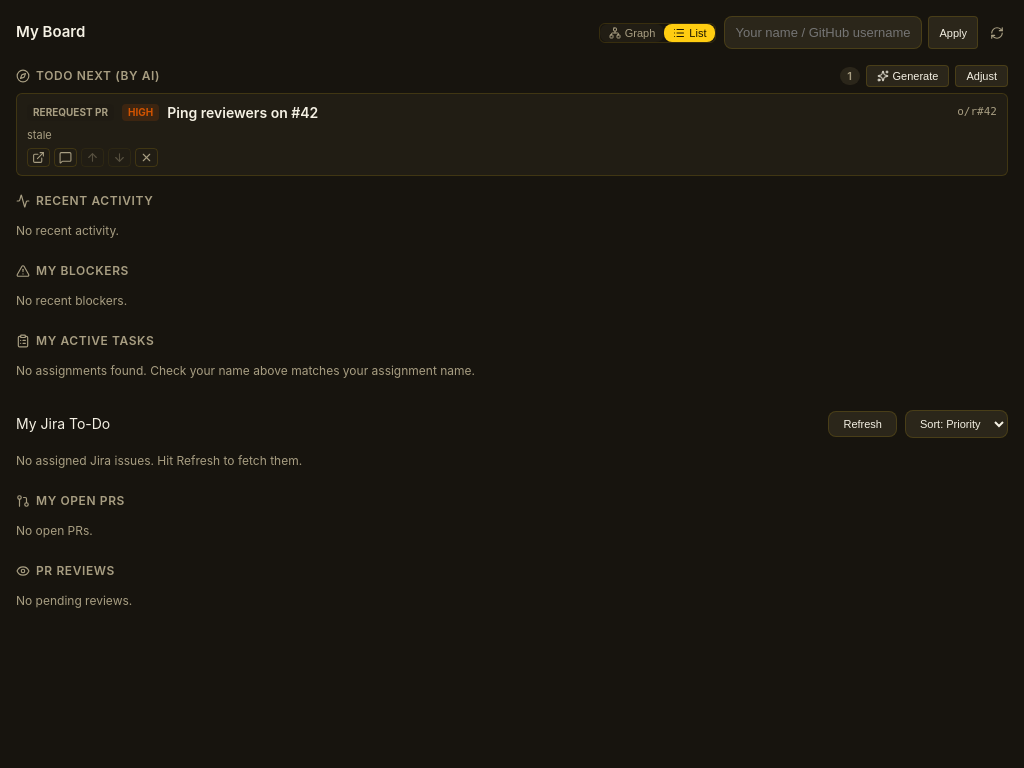
Test case: MyBoardPage — TODO NEXT (BY AI) › opens the draft modal and shows the AI-drafted message
Click the button named "Draft reviewer nudge" at (66, 157), box [54,148,77,166]
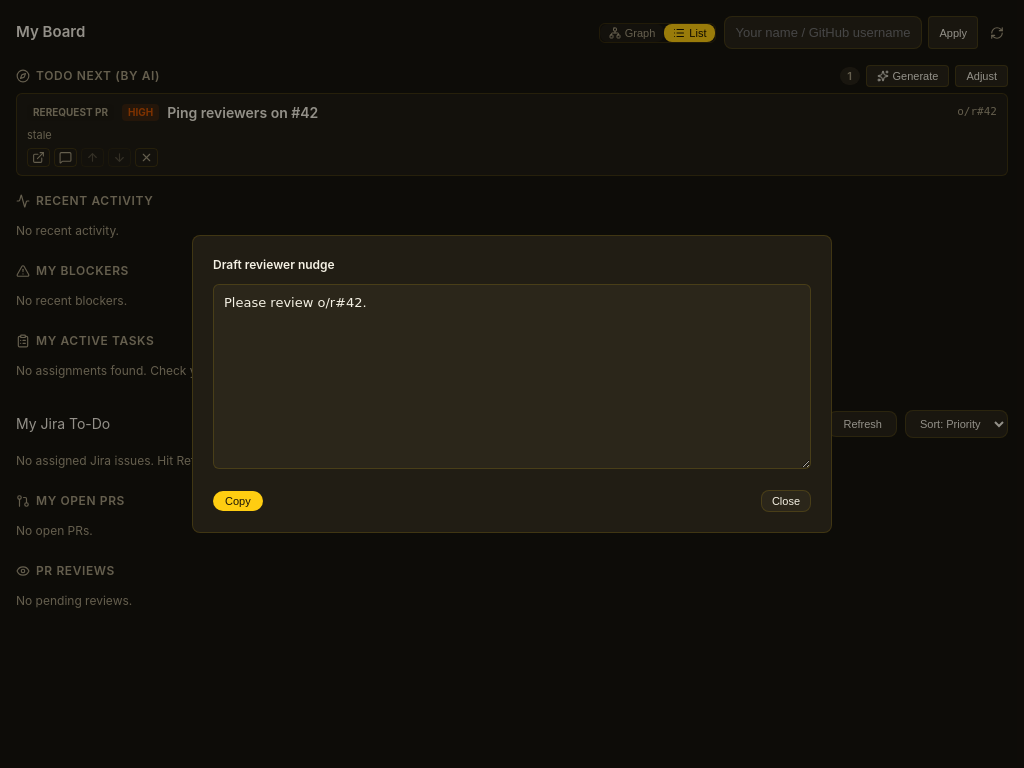
Result: the text box showing "Please review o/r#42." is shown at [213,284,811,469]
